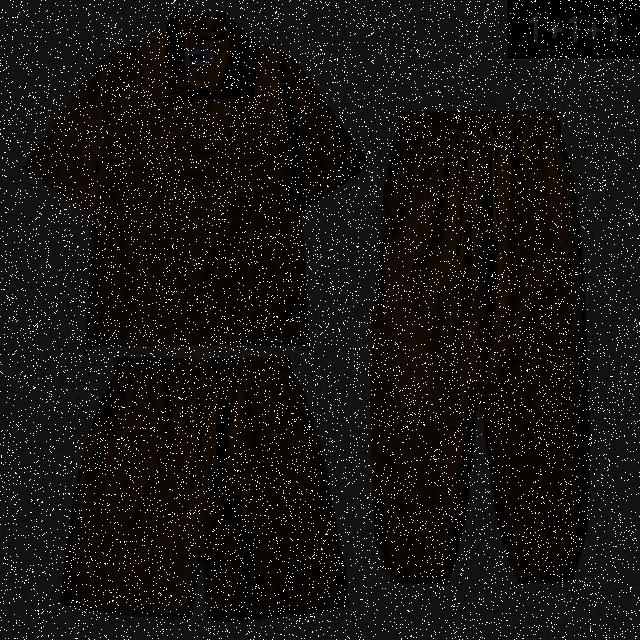Blouse_deep: (370, 97, 599, 589), (45, 344, 364, 632)
